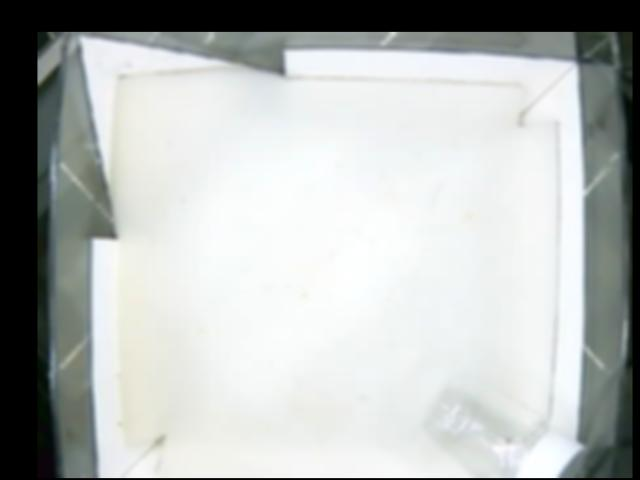Bottle: (423, 369, 586, 478)
